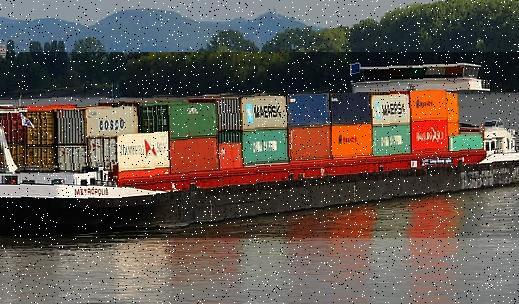Ship: (0, 52, 519, 238)
